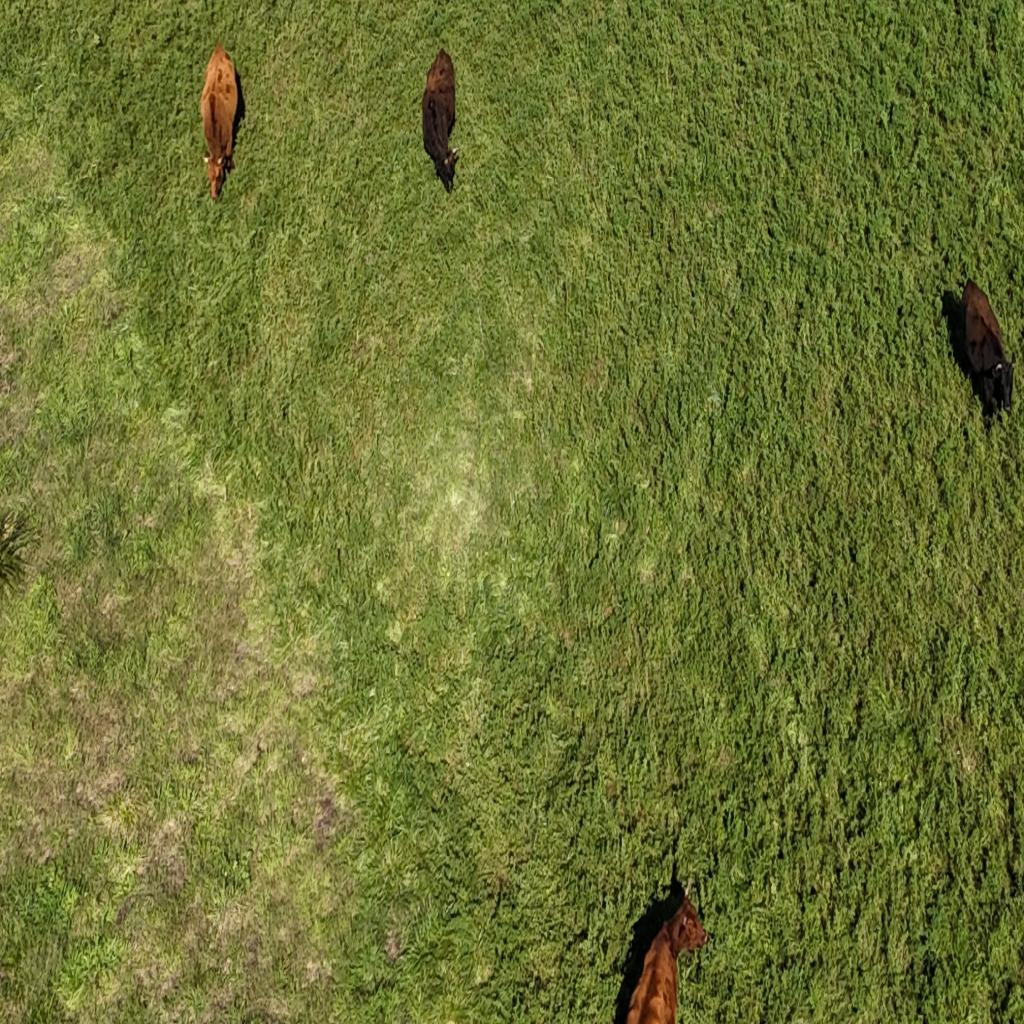cow: (623, 891, 711, 1022), (945, 280, 1016, 424), (199, 42, 242, 204), (420, 44, 462, 198)
